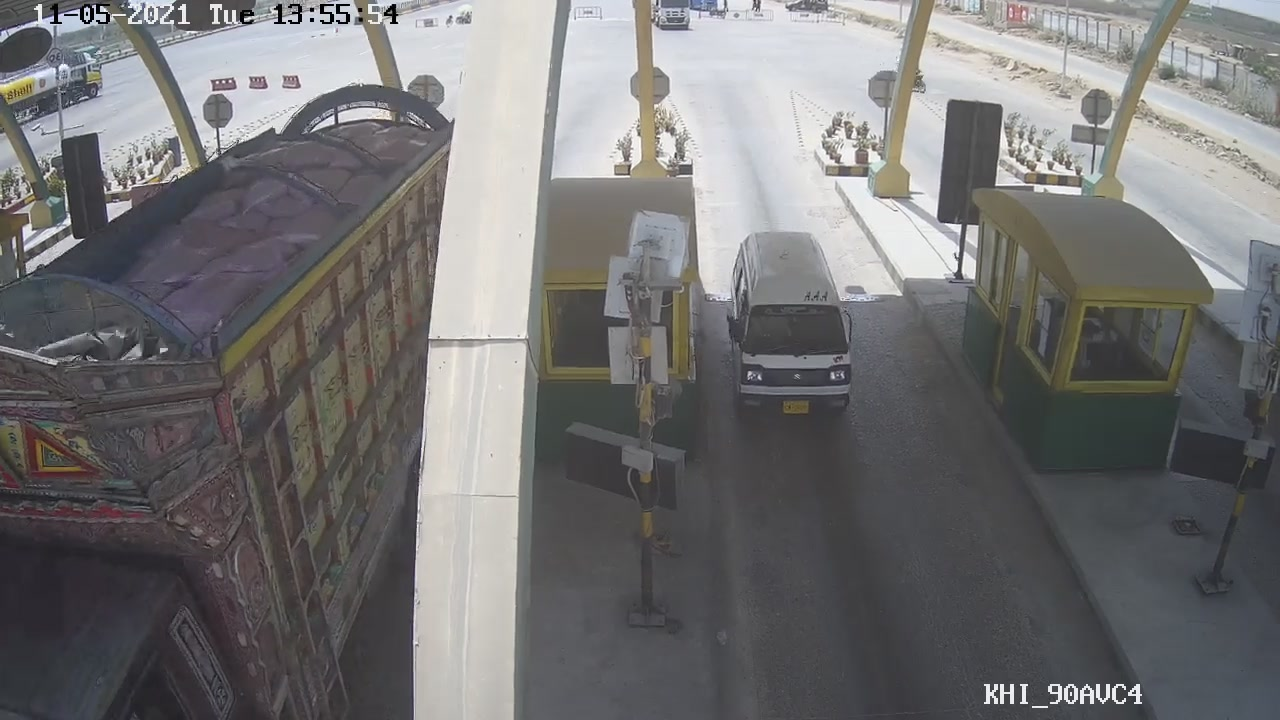F1: (719, 227, 863, 438)
